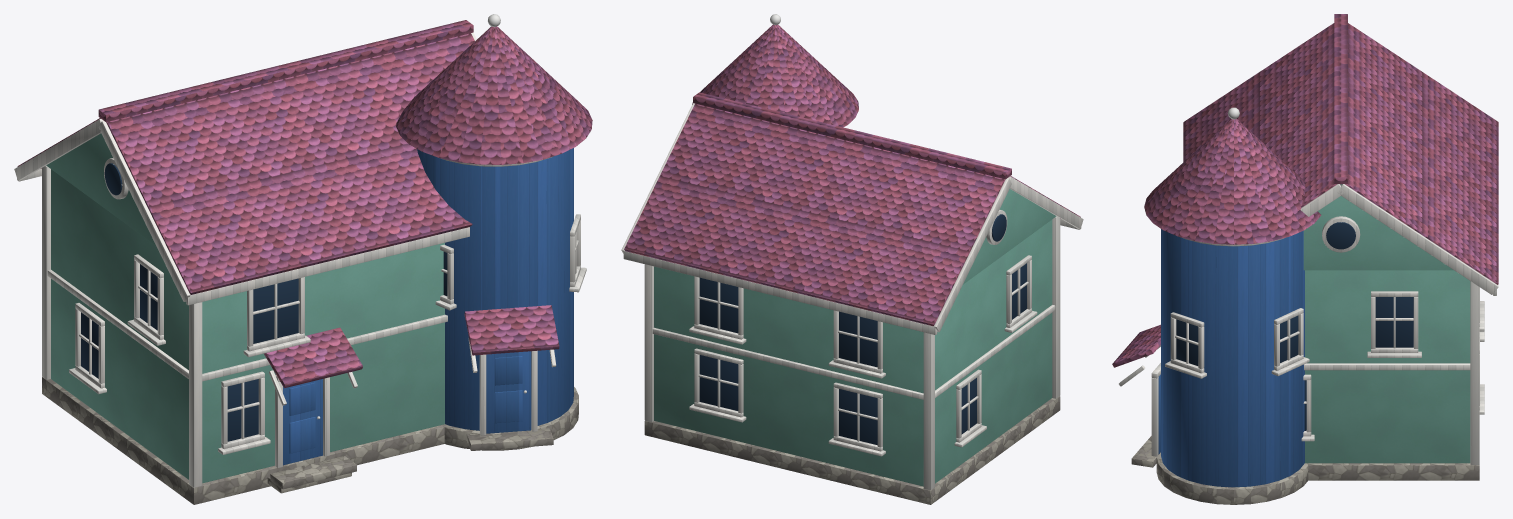
The model's file is house_rival.glb.
The picture shows the model from 3 angles, left to right: view 1: azimuth 30°, elevation 25°; view 2: azimuth 150°, elevation 25°; view 3: azimuth 270°, elevation 25°; orthographic projection. The views are drawn at different scales.
Visible parts, largest first — view 1: house_rival; view 2: house_rival; view 3: house_rival.
Part boxes in pixels (bbox=[...]): house_rival: bbox=[14, 14, 592, 504]; house_rival: bbox=[621, 14, 1083, 504]; house_rival: bbox=[1112, 14, 1498, 504].
Bounding box in the file's own units: 11.53 × 10.51 × 10.09.
7 materials, 7 textured.
